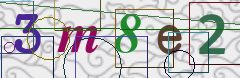2: (197, 13, 226, 56)
3: (13, 12, 43, 56)
8: (113, 12, 142, 55)
e: (156, 24, 184, 55)
m: (55, 24, 98, 55)
